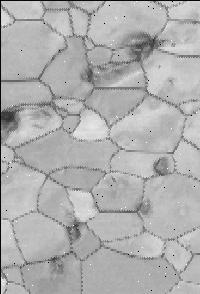good_void: (120, 30, 168, 61), (24, 105, 53, 131), (96, 62, 136, 79), (0, 107, 18, 138), (45, 253, 65, 279), (68, 221, 84, 244), (150, 156, 166, 177), (106, 173, 125, 190), (141, 200, 153, 214), (85, 67, 94, 81), (153, 61, 164, 72), (163, 76, 174, 86), (168, 41, 176, 47)
